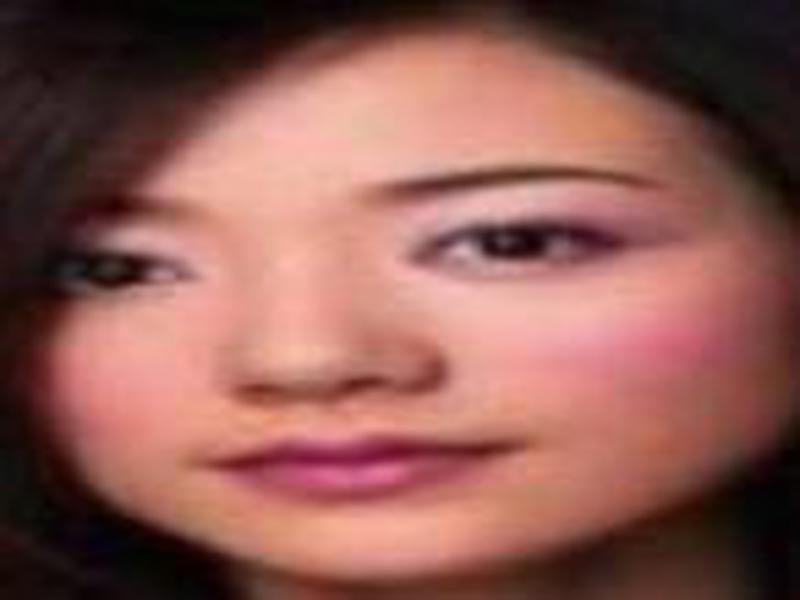without_mask: (26, 57, 768, 565)
